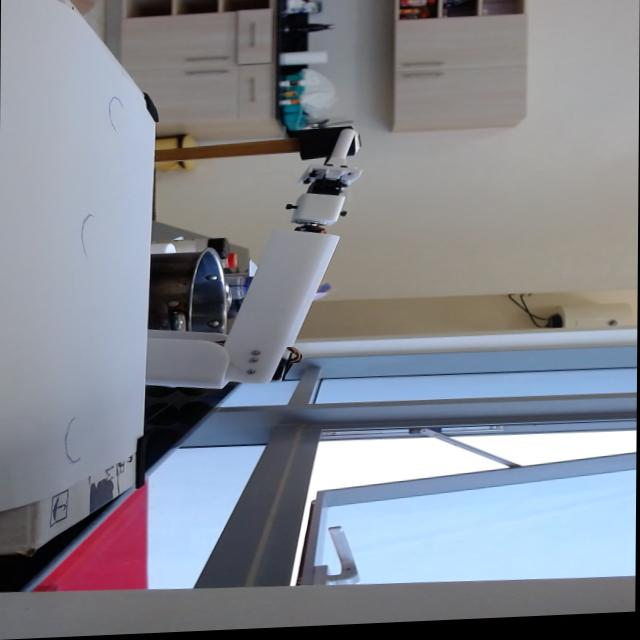cooking_pot: (154, 248, 229, 338)
spatula: (155, 128, 361, 170)
